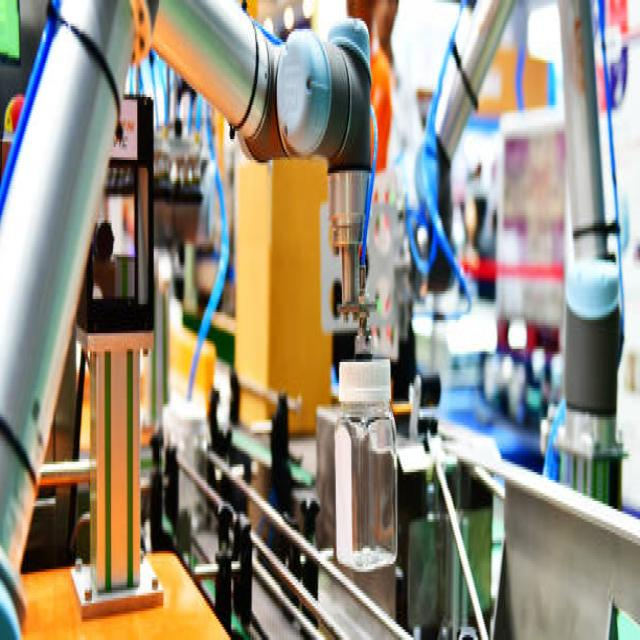Robotic-arm: (0, 0, 400, 640), (409, 0, 630, 437)
